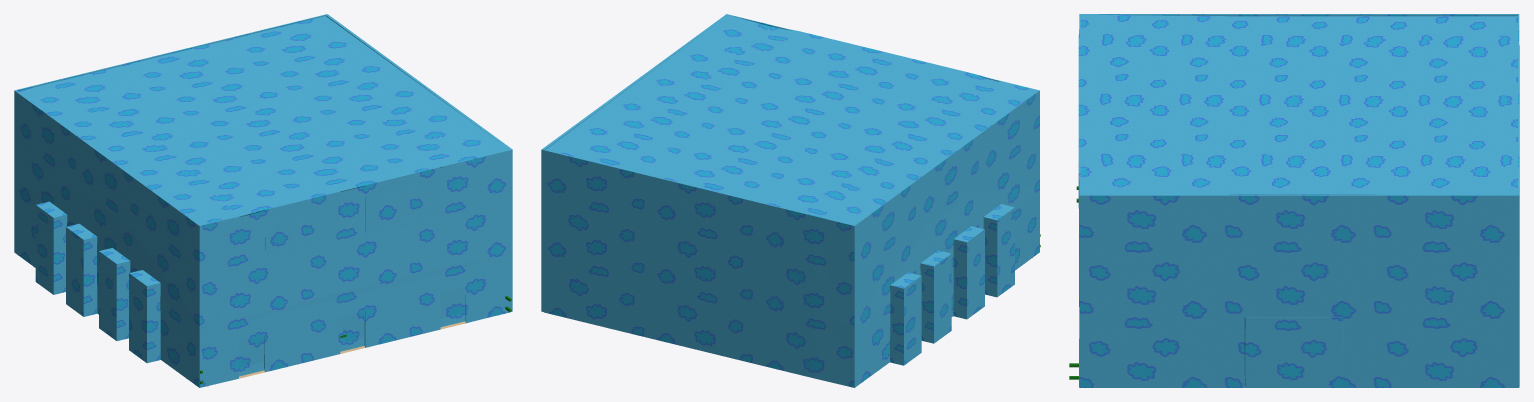
Rendered from cookie_map_squid_game.glb.
3 views of the same model, side by side, from view 1: azimuth 30°, elevation 25°; view 2: azimuth 150°, elevation 25°; view 3: azimuth 270°, elevation 25° (orthographic). The views are drawn at different scales.
Visible parts, largest first — view 1: PAREDES, VALLAS; view 2: PAREDES, VALLAS; view 3: PAREDES.
Part boxes in pixels (x1,y1,x2,y2): PAREDES: (14, 14, 512, 387); VALLAS: (18, 201, 511, 386); PAREDES: (541, 14, 1039, 387); VALLAS: (890, 204, 1040, 365); PAREDES: (1078, 14, 1519, 387).
Size of the model in its own units: 2.11 by 1.03 by 2.11.
21 materials, 3 textured.
